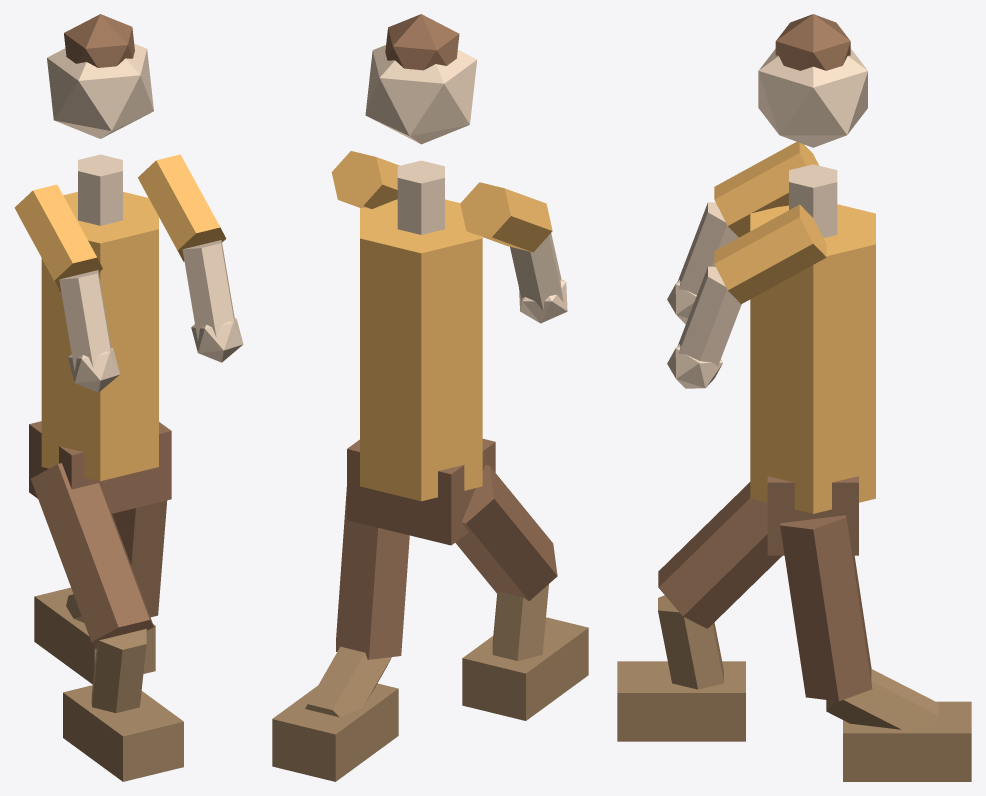
File: pose_walk_00.glb
3 views of the same model, side by side, from view 1: azimuth 30°, elevation 25°; view 2: azimuth 150°, elevation 25°; view 3: azimuth 270°, elevation 25° (orthographic). The views are drawn at different scales.
Visible parts, largest first — view 1: pose; view 2: pose; view 3: pose.
Boxes of the visible parts, <box> form: pose: <box>14,14,243,781</box>; pose: <box>272,14,588,781</box>; pose: <box>617,14,971,781</box>.
Size of the model in its own units: 0.3955 by 1.5 by 0.66.
